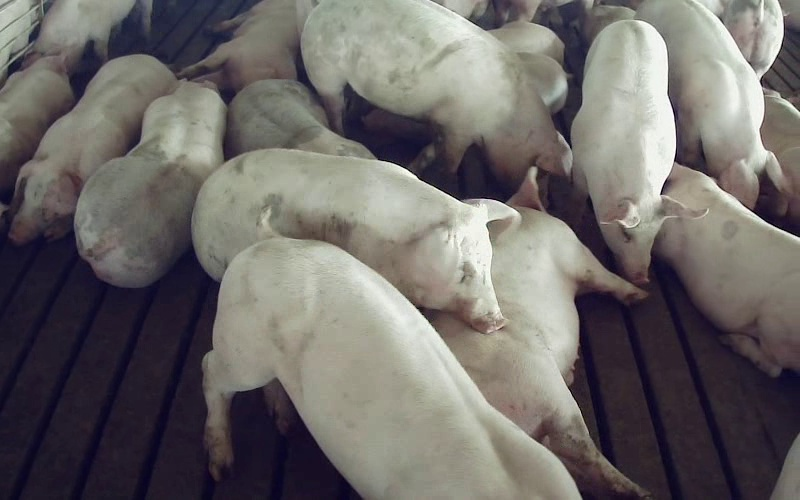pig: (202, 237, 578, 499), (431, 167, 648, 497), (192, 149, 517, 332), (301, 0, 570, 188), (571, 20, 708, 284), (9, 55, 176, 244), (636, 0, 786, 208), (653, 163, 799, 375), (74, 82, 225, 286), (225, 79, 375, 158), (0, 53, 73, 198), (33, 0, 151, 73)
